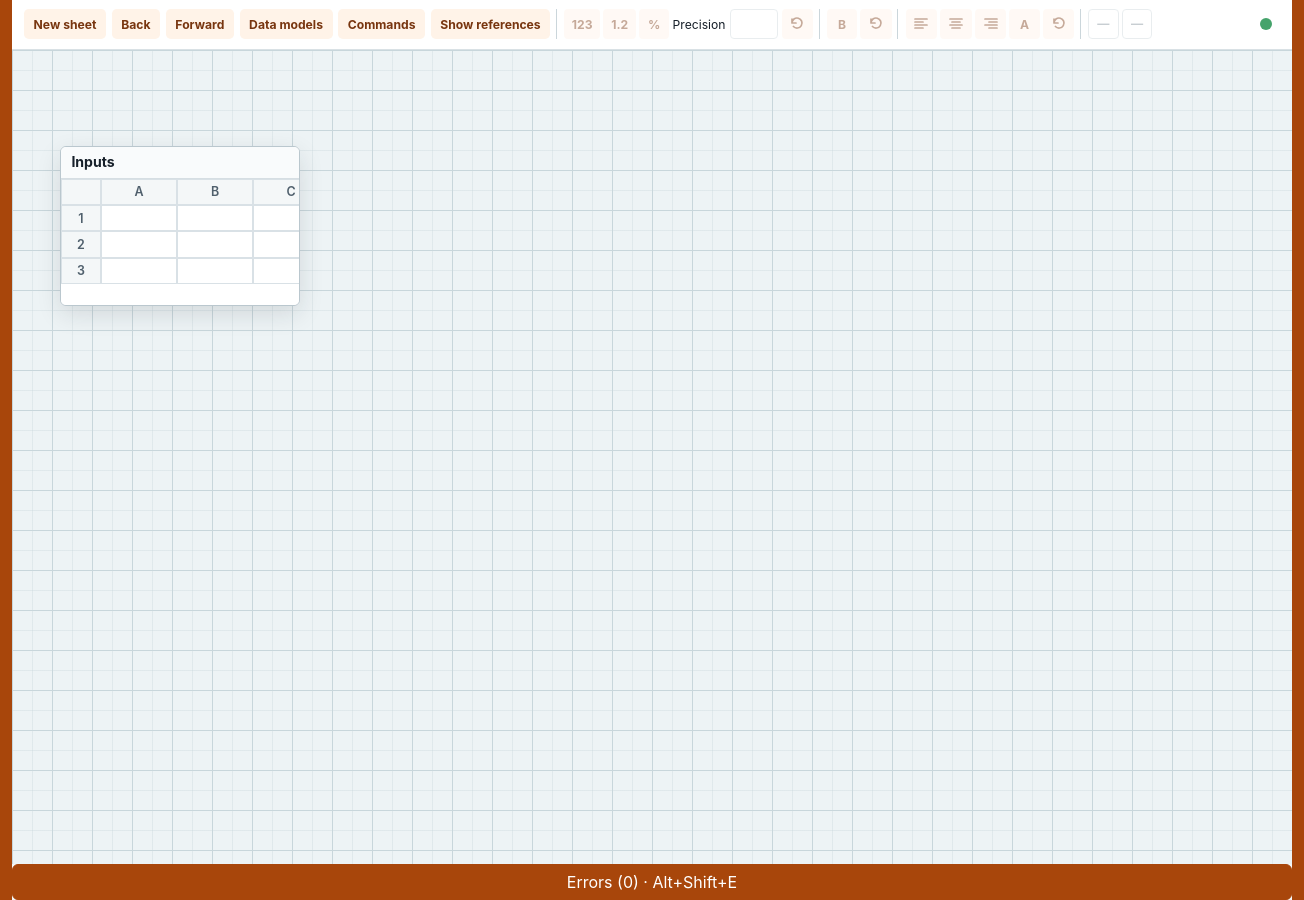
Test: App rendering-mode transitions › enters overview when a visual-scale input is committed
This screenshot has width=1304, height=900.
Click the cell named "Inputs A1 empty cell".
click(139, 218)  # box 101,205 -> 177,231
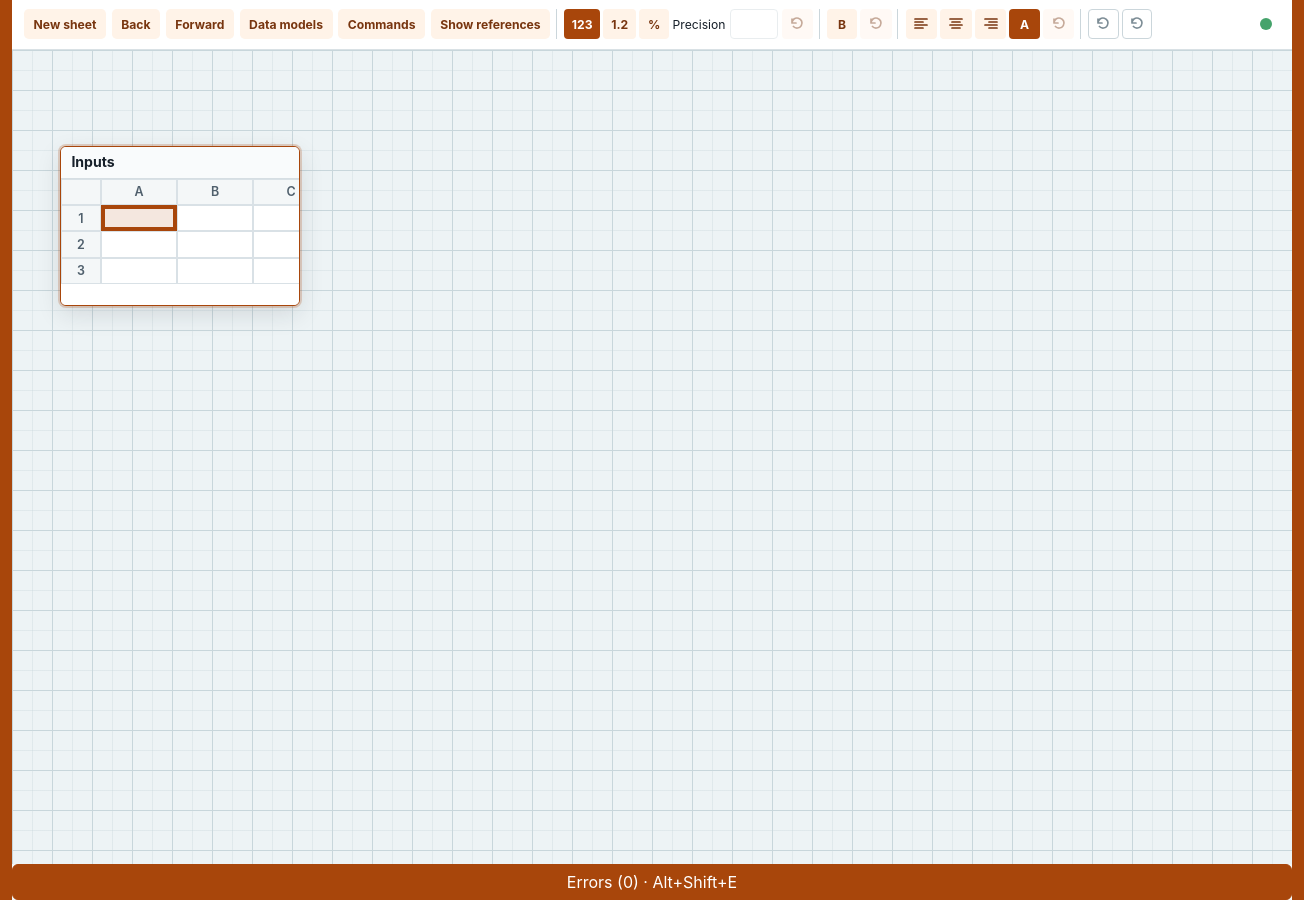
Right-click the element named "Sheet Inputs".
right_click(180, 226)  # box 60,146 -> 300,306
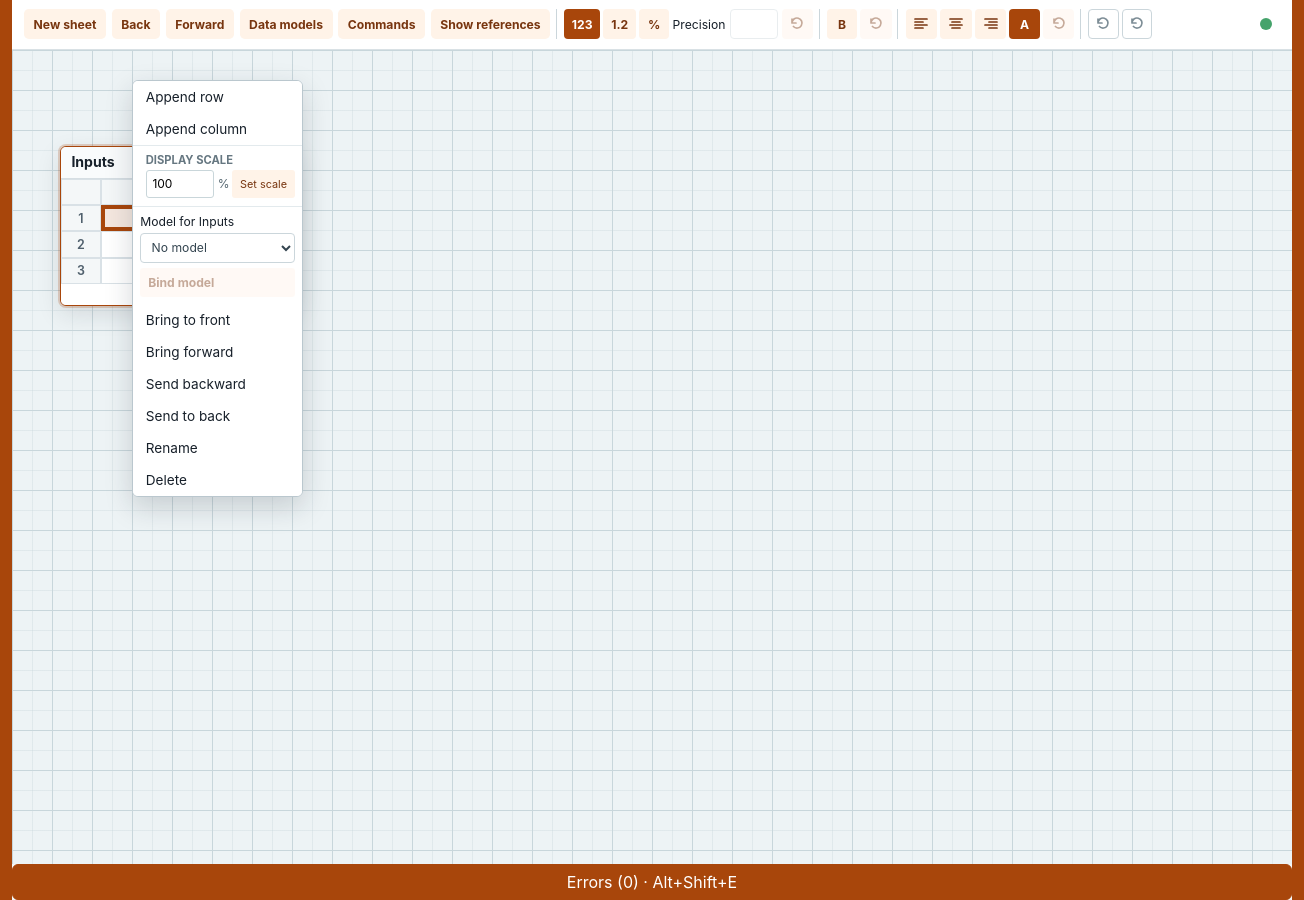
Replace the text in the number field named "Display scale percentage" with "30" at (180, 184), box 146,170 -> 214,198
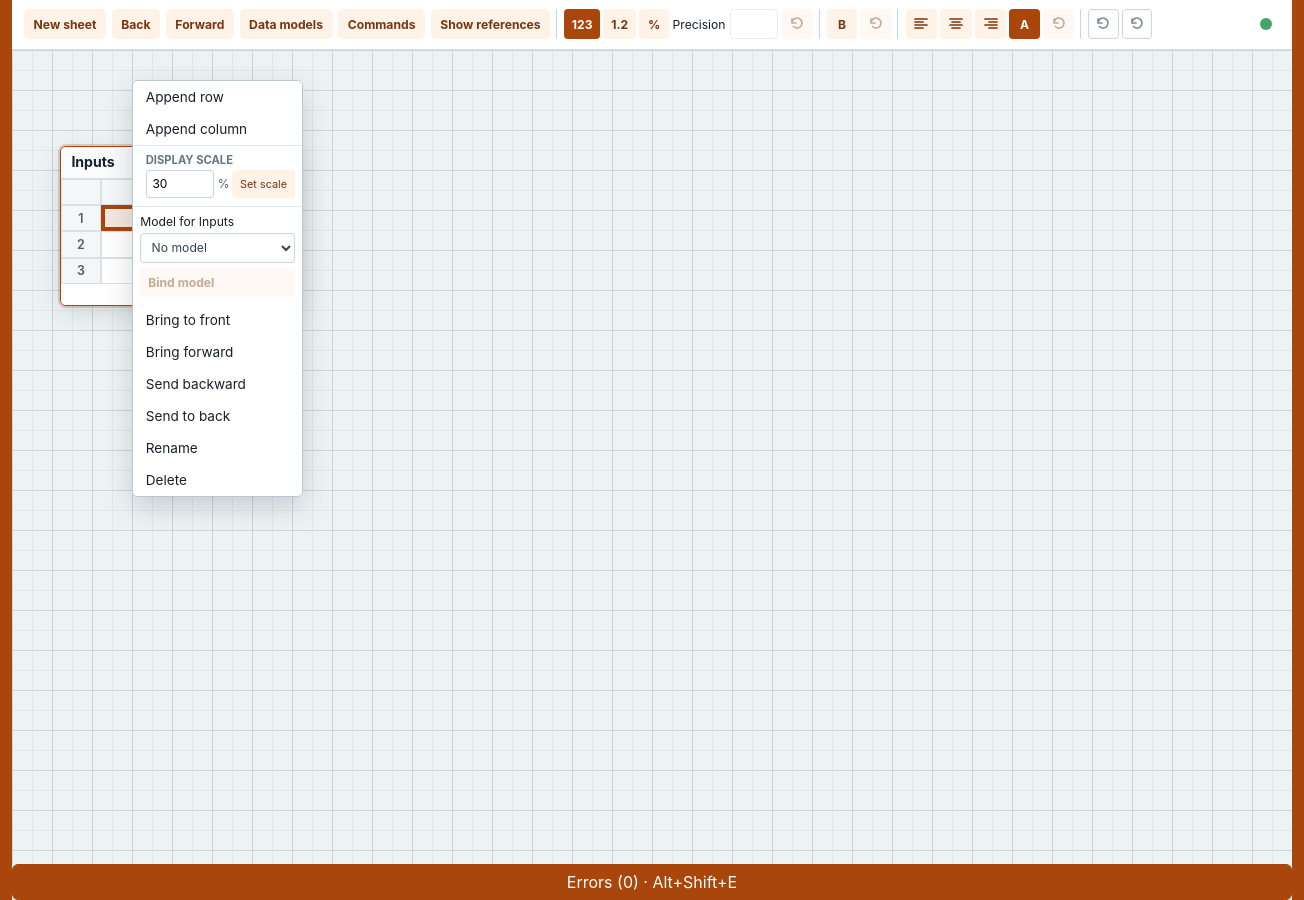
Press Enter in the number field named "Display scale percentage", box 146,170 -> 214,198
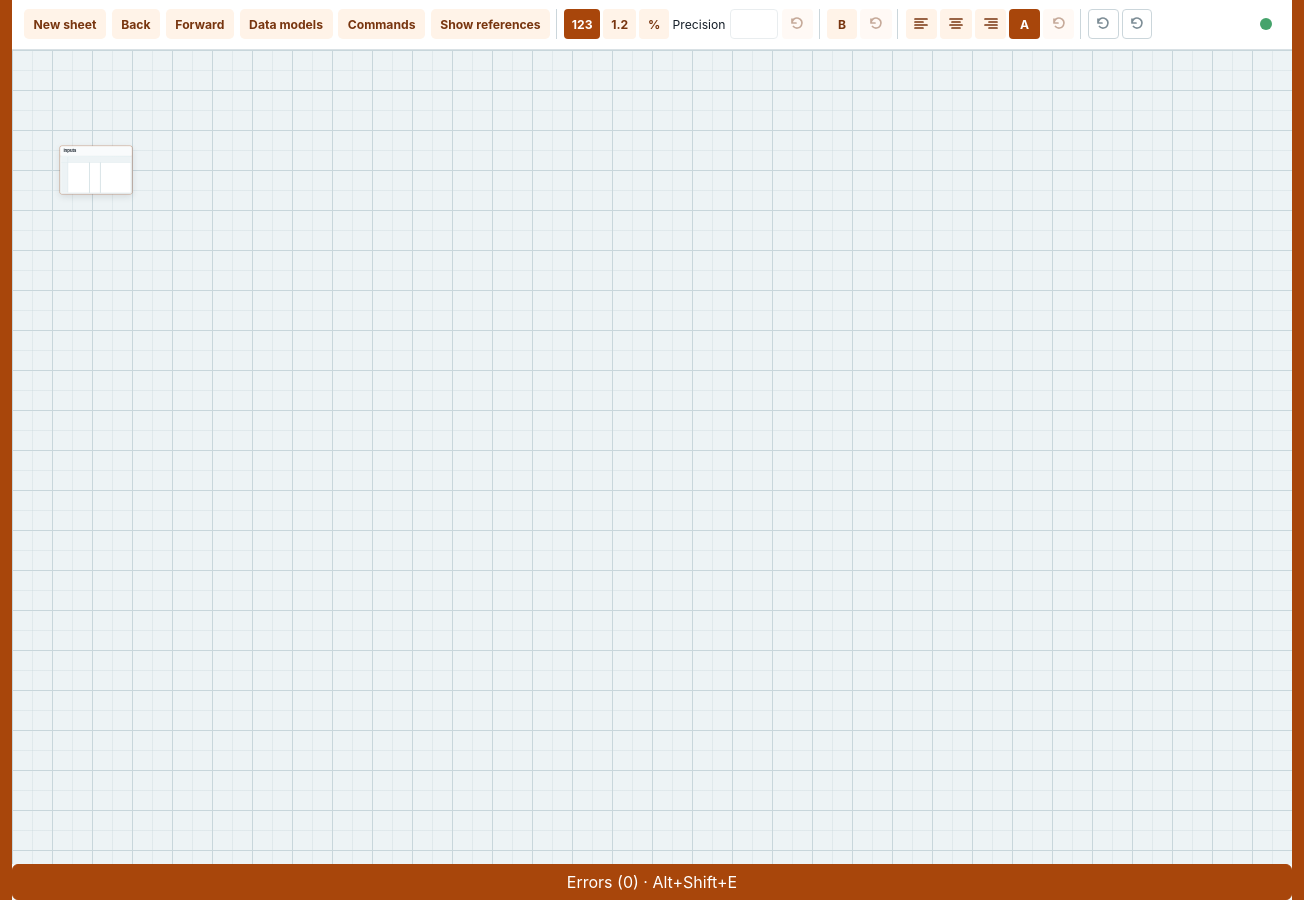
Expected: the table with test id "sheet-grid" is gone
